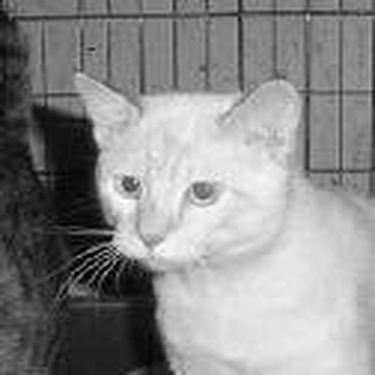cat: (73, 66, 369, 369)
